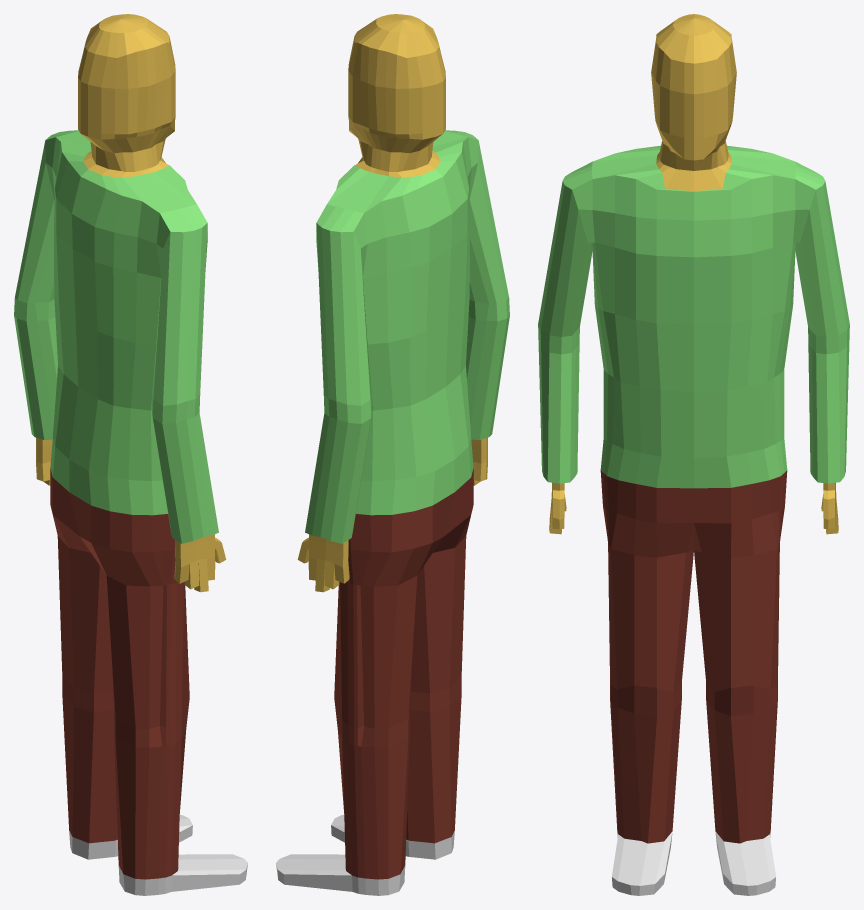
Rendered from SM_Human01.fbx.
3 views of the same model, side by side, from view 1: azimuth 30°, elevation 25°; view 2: azimuth 150°, elevation 25°; view 3: azimuth 270°, elevation 25° (orthographic). The views are drawn at different scales.
Parts seen in each view (by area): view 1: SM_Human01; view 2: SM_Human01; view 3: SM_Human01.
Part boxes in pixels (x1,y1,x2,y2): SM_Human01: (14,14,247,895); SM_Human01: (276,14,509,895); SM_Human01: (538,14,849,895).
Size of the model in its own units: 15.45 by 85.35 by 29.
